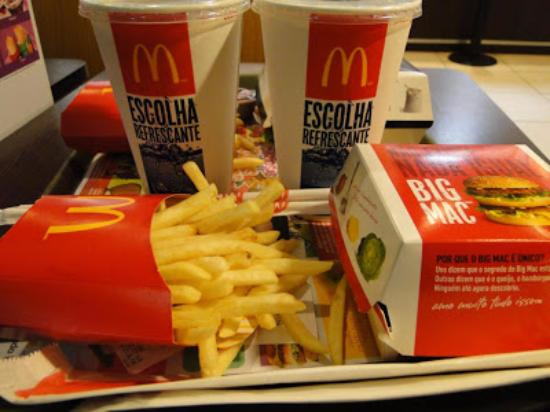mcdonalds: (131, 37, 187, 92), (319, 46, 372, 95)
